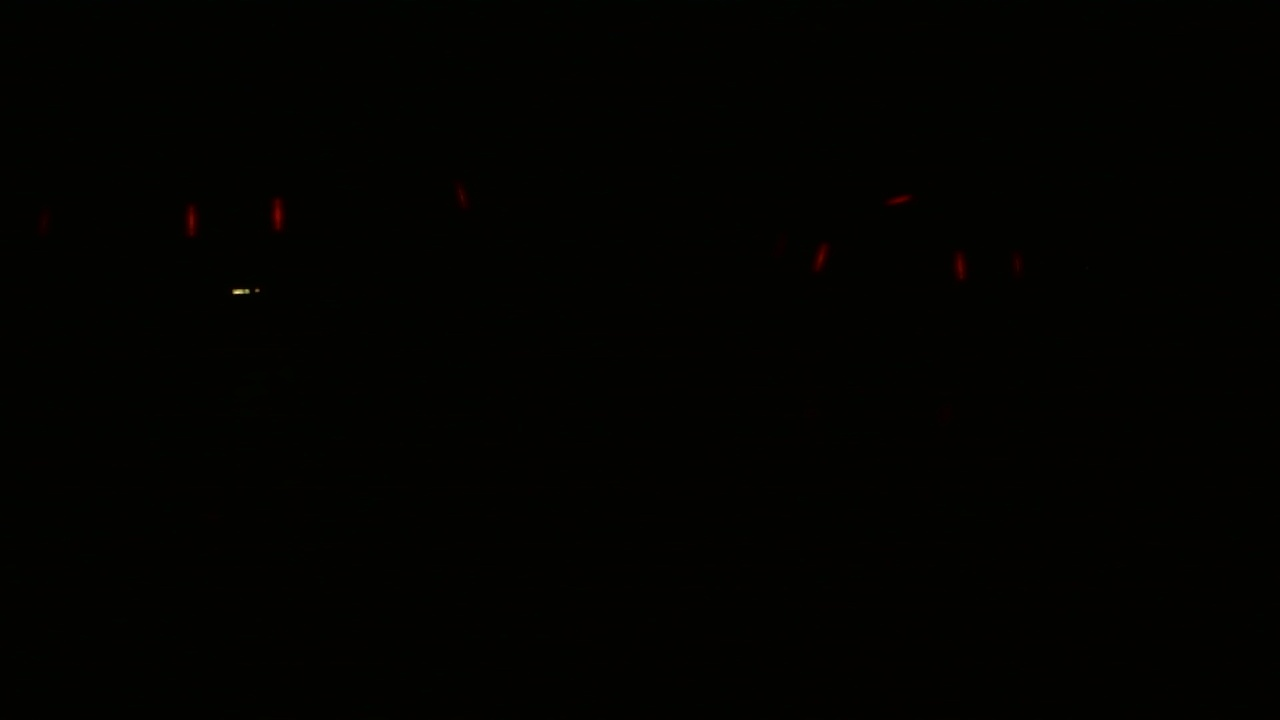pair1: (181, 200, 289, 238), (950, 250, 1027, 282)
